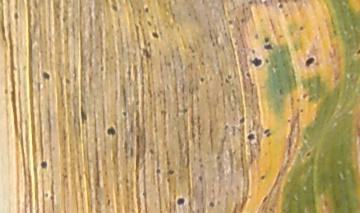tarspot: (133, 22, 142, 52), (79, 104, 89, 125), (121, 83, 129, 109), (130, 61, 139, 83), (250, 56, 263, 69), (207, 27, 215, 48), (304, 55, 315, 70), (105, 124, 116, 139), (140, 46, 151, 61), (244, 71, 255, 86), (175, 195, 187, 208), (164, 149, 172, 168), (60, 127, 69, 143), (262, 127, 273, 140), (245, 131, 256, 143), (122, 138, 130, 154), (109, 1, 120, 12), (40, 70, 52, 80), (135, 134, 142, 151), (262, 43, 273, 53), (150, 29, 160, 40), (224, 73, 233, 85), (229, 88, 238, 100), (304, 149, 314, 159), (60, 14, 70, 24), (38, 160, 49, 169), (129, 119, 135, 135), (129, 144, 135, 160), (11, 11, 20, 21), (167, 167, 176, 177), (289, 95, 295, 110), (114, 86, 120, 101), (230, 125, 236, 139), (188, 42, 195, 54), (322, 198, 329, 210), (61, 173, 70, 182), (237, 114, 245, 124), (262, 195, 270, 205), (126, 65, 131, 81), (278, 86, 285, 97), (105, 196, 112, 207), (207, 200, 215, 209), (196, 174, 204, 183), (170, 11, 176, 23), (55, 1, 63, 10), (155, 166, 162, 176), (222, 122, 228, 133), (197, 76, 205, 84), (249, 47, 257, 55), (63, 77, 71, 85), (147, 148, 155, 156), (225, 18, 233, 26), (281, 11, 289, 19), (276, 1, 283, 10), (145, 39, 152, 48), (164, 175, 173, 182), (121, 109, 128, 118), (259, 172, 266, 181), (146, 19, 152, 29), (297, 24, 305, 31), (252, 32, 259, 40), (277, 33, 285, 40), (215, 153, 222, 161), (181, 107, 188, 115), (192, 14, 199, 22), (331, 28, 338, 36), (143, 5, 149, 14), (233, 38, 239, 47), (159, 110, 168, 116), (195, 94, 201, 103), (3, 87, 9, 96), (134, 98, 140, 107), (184, 11, 193, 17), (63, 1, 73, 6), (306, 96, 313, 103), (354, 47, 360, 55), (263, 36, 269, 44), (43, 191, 49, 199), (49, 194, 55, 202), (286, 117, 292, 125), (299, 107, 305, 115), (238, 18, 246, 24), (166, 60, 172, 68), (223, 30, 228, 39), (142, 190, 147, 199), (301, 92, 307, 99), (199, 60, 205, 67), (264, 57, 270, 64), (51, 145, 57, 152), (195, 84, 200, 92), (99, 64, 104, 72), (55, 12, 59, 21), (247, 1, 254, 6), (110, 23, 115, 30), (175, 25, 180, 32), (296, 96, 300, 104), (284, 1, 289, 7), (257, 17, 263, 22), (199, 163, 204, 169), (292, 1, 300, 4), (201, 1, 205, 6)
